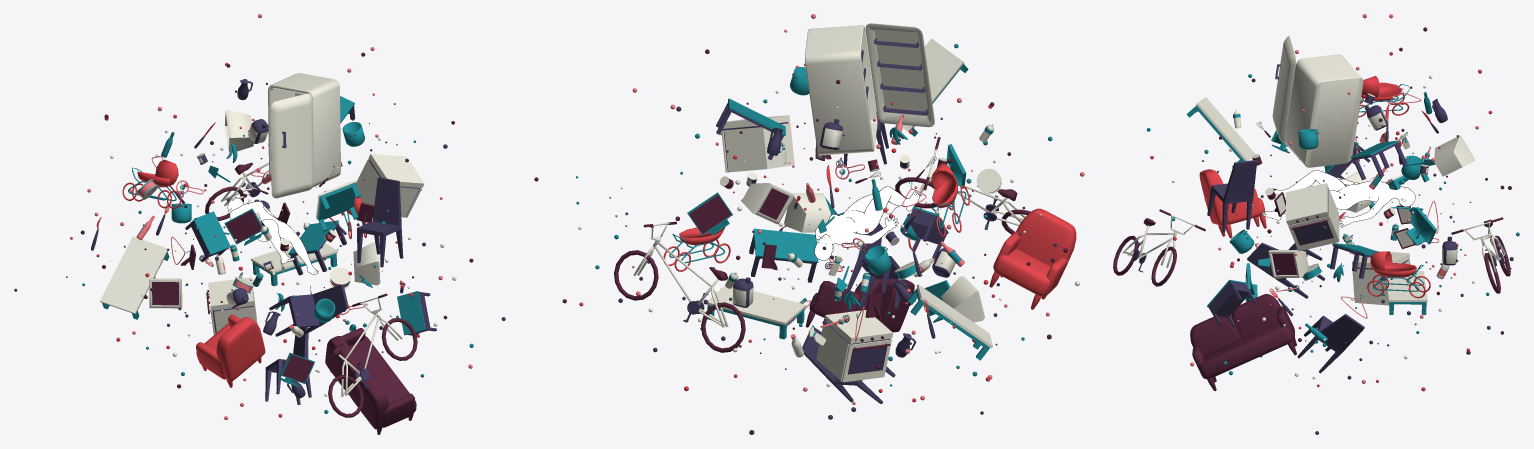
File: bouche_a_levres.glb
The picture shows the model from 3 angles, left to right: view 1: azimuth 30°, elevation 25°; view 2: azimuth 150°, elevation 25°; view 3: azimuth 270°, elevation 25°; orthographic projection. The views are drawn at different scales.
Parts seen in each view (by area): view 1: fridge.004, fauteuil.008, fauteuil.005, table2.001, oven.001, chaise.001, bmx.002, womanMesh.001, chaise.002, oven.003, table2.003, landeau.002 (+11 smaller); view 2: fridge.004, fauteuil.005, oven.003, womanMesh.001, oven.001, bmx.001, fauteuil.008, table2.002, table1.007, table2.001, bmx.002, table2.003 (+14 smaller); view 3: fridge.004, fauteuil.008, oven.001, womanMesh.001, chaise.001, bmx.002, fauteuil.005, chaise.003, landeau.003, oven.003, table2.003, bmx.001 (+12 smaller).
Boxes of the visible parts, <box> form: fridge.004: <box>268,73,340,198</box>; fauteuil.008: <box>325,328,416,434</box>; fauteuil.005: <box>196,314,265,387</box>; table2.001: <box>100,236,169,319</box>; oven.001: <box>356,154,424,217</box>; chaise.001: <box>357,177,403,267</box>; bmx.002: <box>328,293,417,417</box>; womanMesh.001: <box>228,197,317,274</box>; chaise.002: <box>269,284,348,336</box>; oven.003: <box>206,277,257,334</box>; table2.003: <box>316,180,360,231</box>; landeau.002: <box>122,159,181,208</box>; fridge.004: <box>805,23,934,155</box>; fauteuil.005: <box>989,208,1076,309</box>; oven.003: <box>816,310,893,382</box>; womanMesh.001: <box>814,186,919,260</box>; oven.001: <box>720,115,794,172</box>; bmx.001: <box>614,221,745,352</box>; fauteuil.008: <box>805,278,914,332</box>; table2.002: <box>706,285,806,339</box>; table1.007: <box>749,228,818,282</box>; table2.001: <box>907,284,992,360</box>; bmx.002: <box>895,137,1030,234</box>; table2.003: <box>902,38,968,136</box>; fridge.004: <box>1272,36,1363,167</box>; fauteuil.008: <box>1190,294,1296,390</box>; oven.001: <box>1285,183,1339,251</box>; womanMesh.001: <box>1262,170,1415,227</box>; chaise.001: <box>1207,160,1256,232</box>; bmx.002: <box>1113,209,1205,286</box>; fauteuil.005: <box>1199,169,1266,238</box>; chaise.003: <box>1297,314,1364,373</box>; landeau.003: <box>1367,251,1430,298</box>; oven.003: <box>1352,250,1410,305</box>; table2.003: <box>1186,97,1255,167</box>; bmx.001: <box>1451,217,1511,293</box>.
Bounding box in the file's own units: 6.3 × 5.29 × 5.45.
